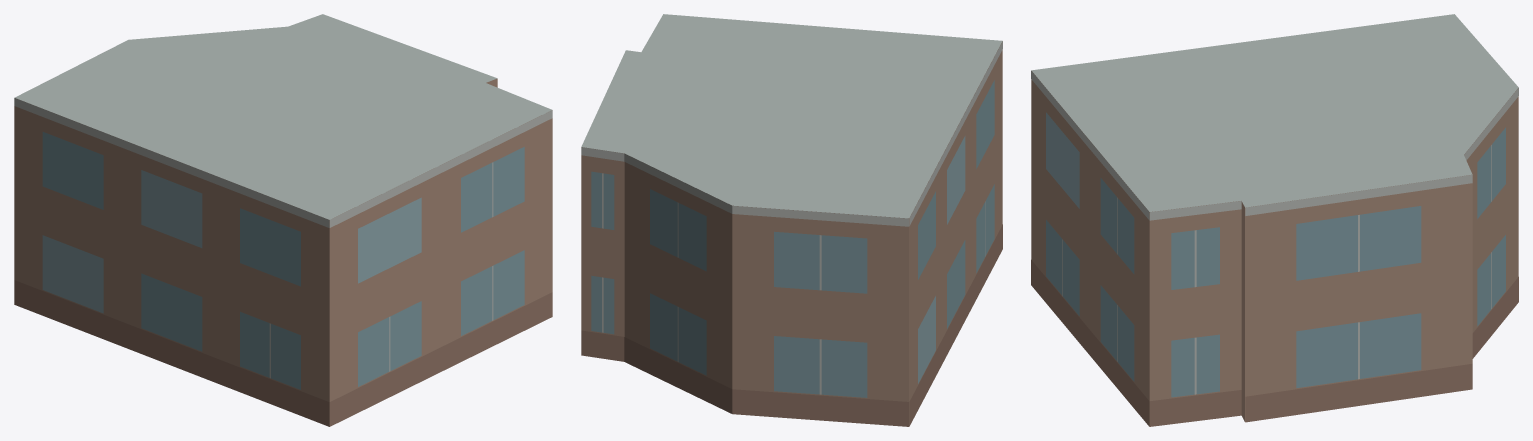
File: survey-upis-32721761.glb
3 renders of one model, left to right at view 1: azimuth 30°, elevation 25°; view 2: azimuth 150°, elevation 25°; view 3: azimuth 270°, elevation 25°, orthographic. The views are drawn at different scales.
Parts seen in each view (by area): view 1: survey-upis-32721761.tmp; view 2: survey-upis-32721761.tmp; view 3: survey-upis-32721761.tmp.
Boxes of the visible parts, box(x1,y1,x2,y2) form: survey-upis-32721761.tmp: box(14, 14, 552, 426); survey-upis-32721761.tmp: box(581, 14, 1002, 426); survey-upis-32721761.tmp: box(1031, 14, 1518, 426).
Bounding box in the file's own units: 12.07 × 6.1 × 12.56.
